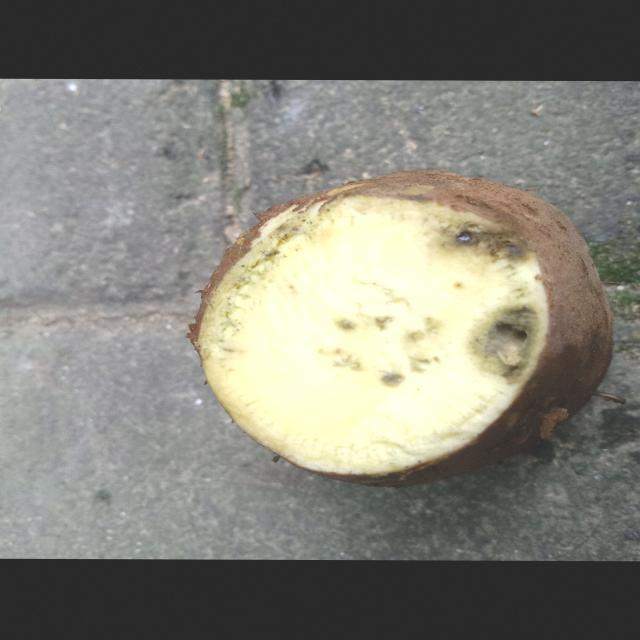Sick Sweet Potato_Tuber Rot: (197, 195, 547, 475)
